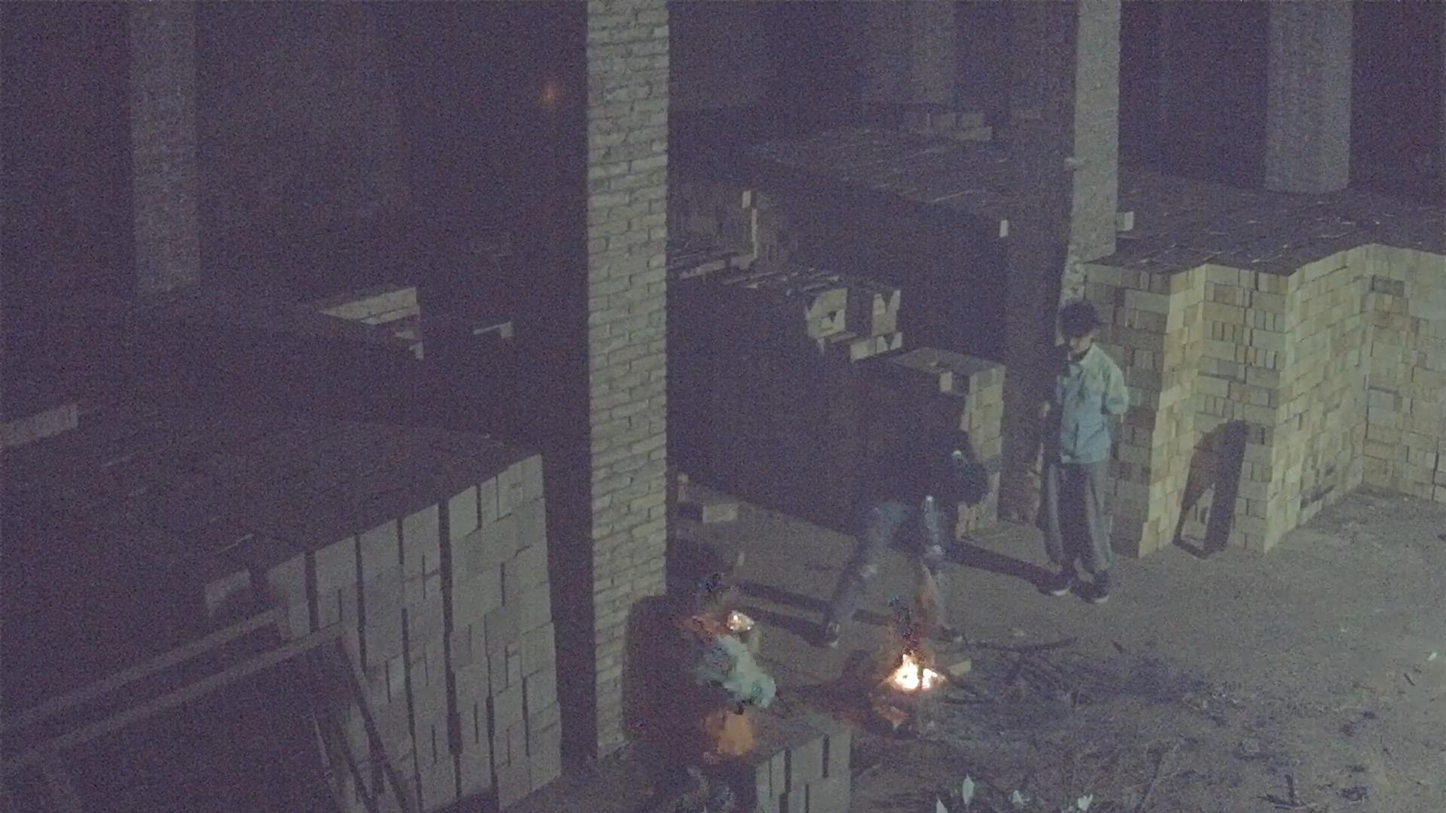fire: (886, 650, 945, 694)
